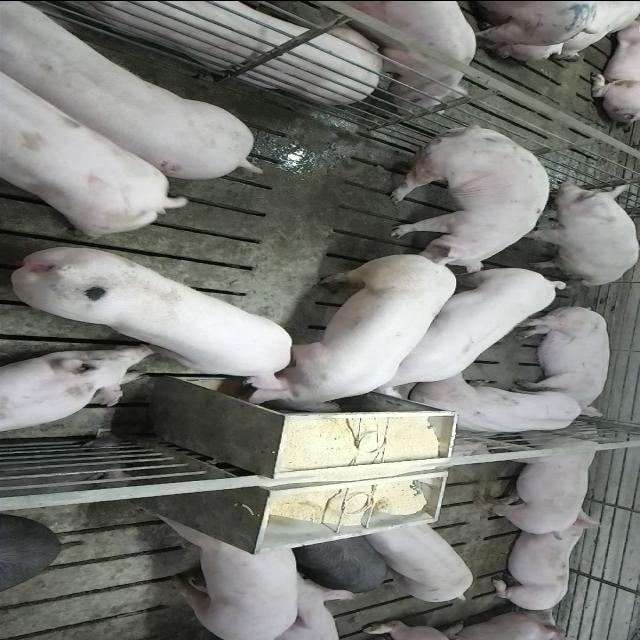Feeding: (9, 244, 298, 396), (254, 247, 466, 411)
Lateral_lying: (28, 0, 388, 102), (512, 303, 612, 417)
Sitting: (516, 179, 638, 286)
Standing: (0, 0, 261, 176), (356, 262, 568, 394), (378, 120, 554, 266), (139, 506, 298, 638), (468, 421, 610, 535), (336, 0, 474, 107), (362, 517, 474, 603), (297, 532, 387, 594)
Sternal_lying: (0, 346, 154, 434), (487, 516, 605, 612), (410, 374, 588, 437)
